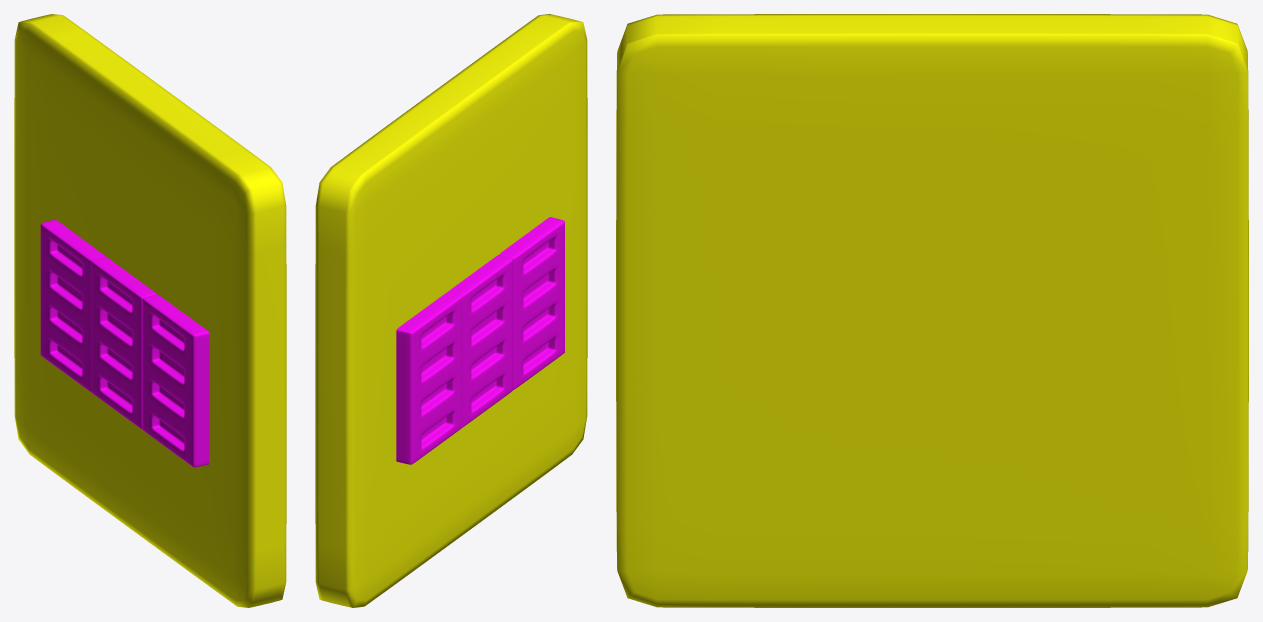
3 views of the same model, side by side, from view 1: azimuth 30°, elevation 25°; view 2: azimuth 150°, elevation 25°; view 3: azimuth 270°, elevation 25° (orthographic). The views are drawn at different scales.
Visible parts, largest first — view 1: polySurface953; view 2: polySurface953; view 3: polySurface953.
Boxes of the visible parts, x1,y1,x2,y2 form: polySurface953: (14, 14, 286, 607); polySurface953: (315, 14, 587, 607); polySurface953: (616, 14, 1248, 607).
Size of the model in its own units: 0.1362 by 0.9994 by 0.9994.
